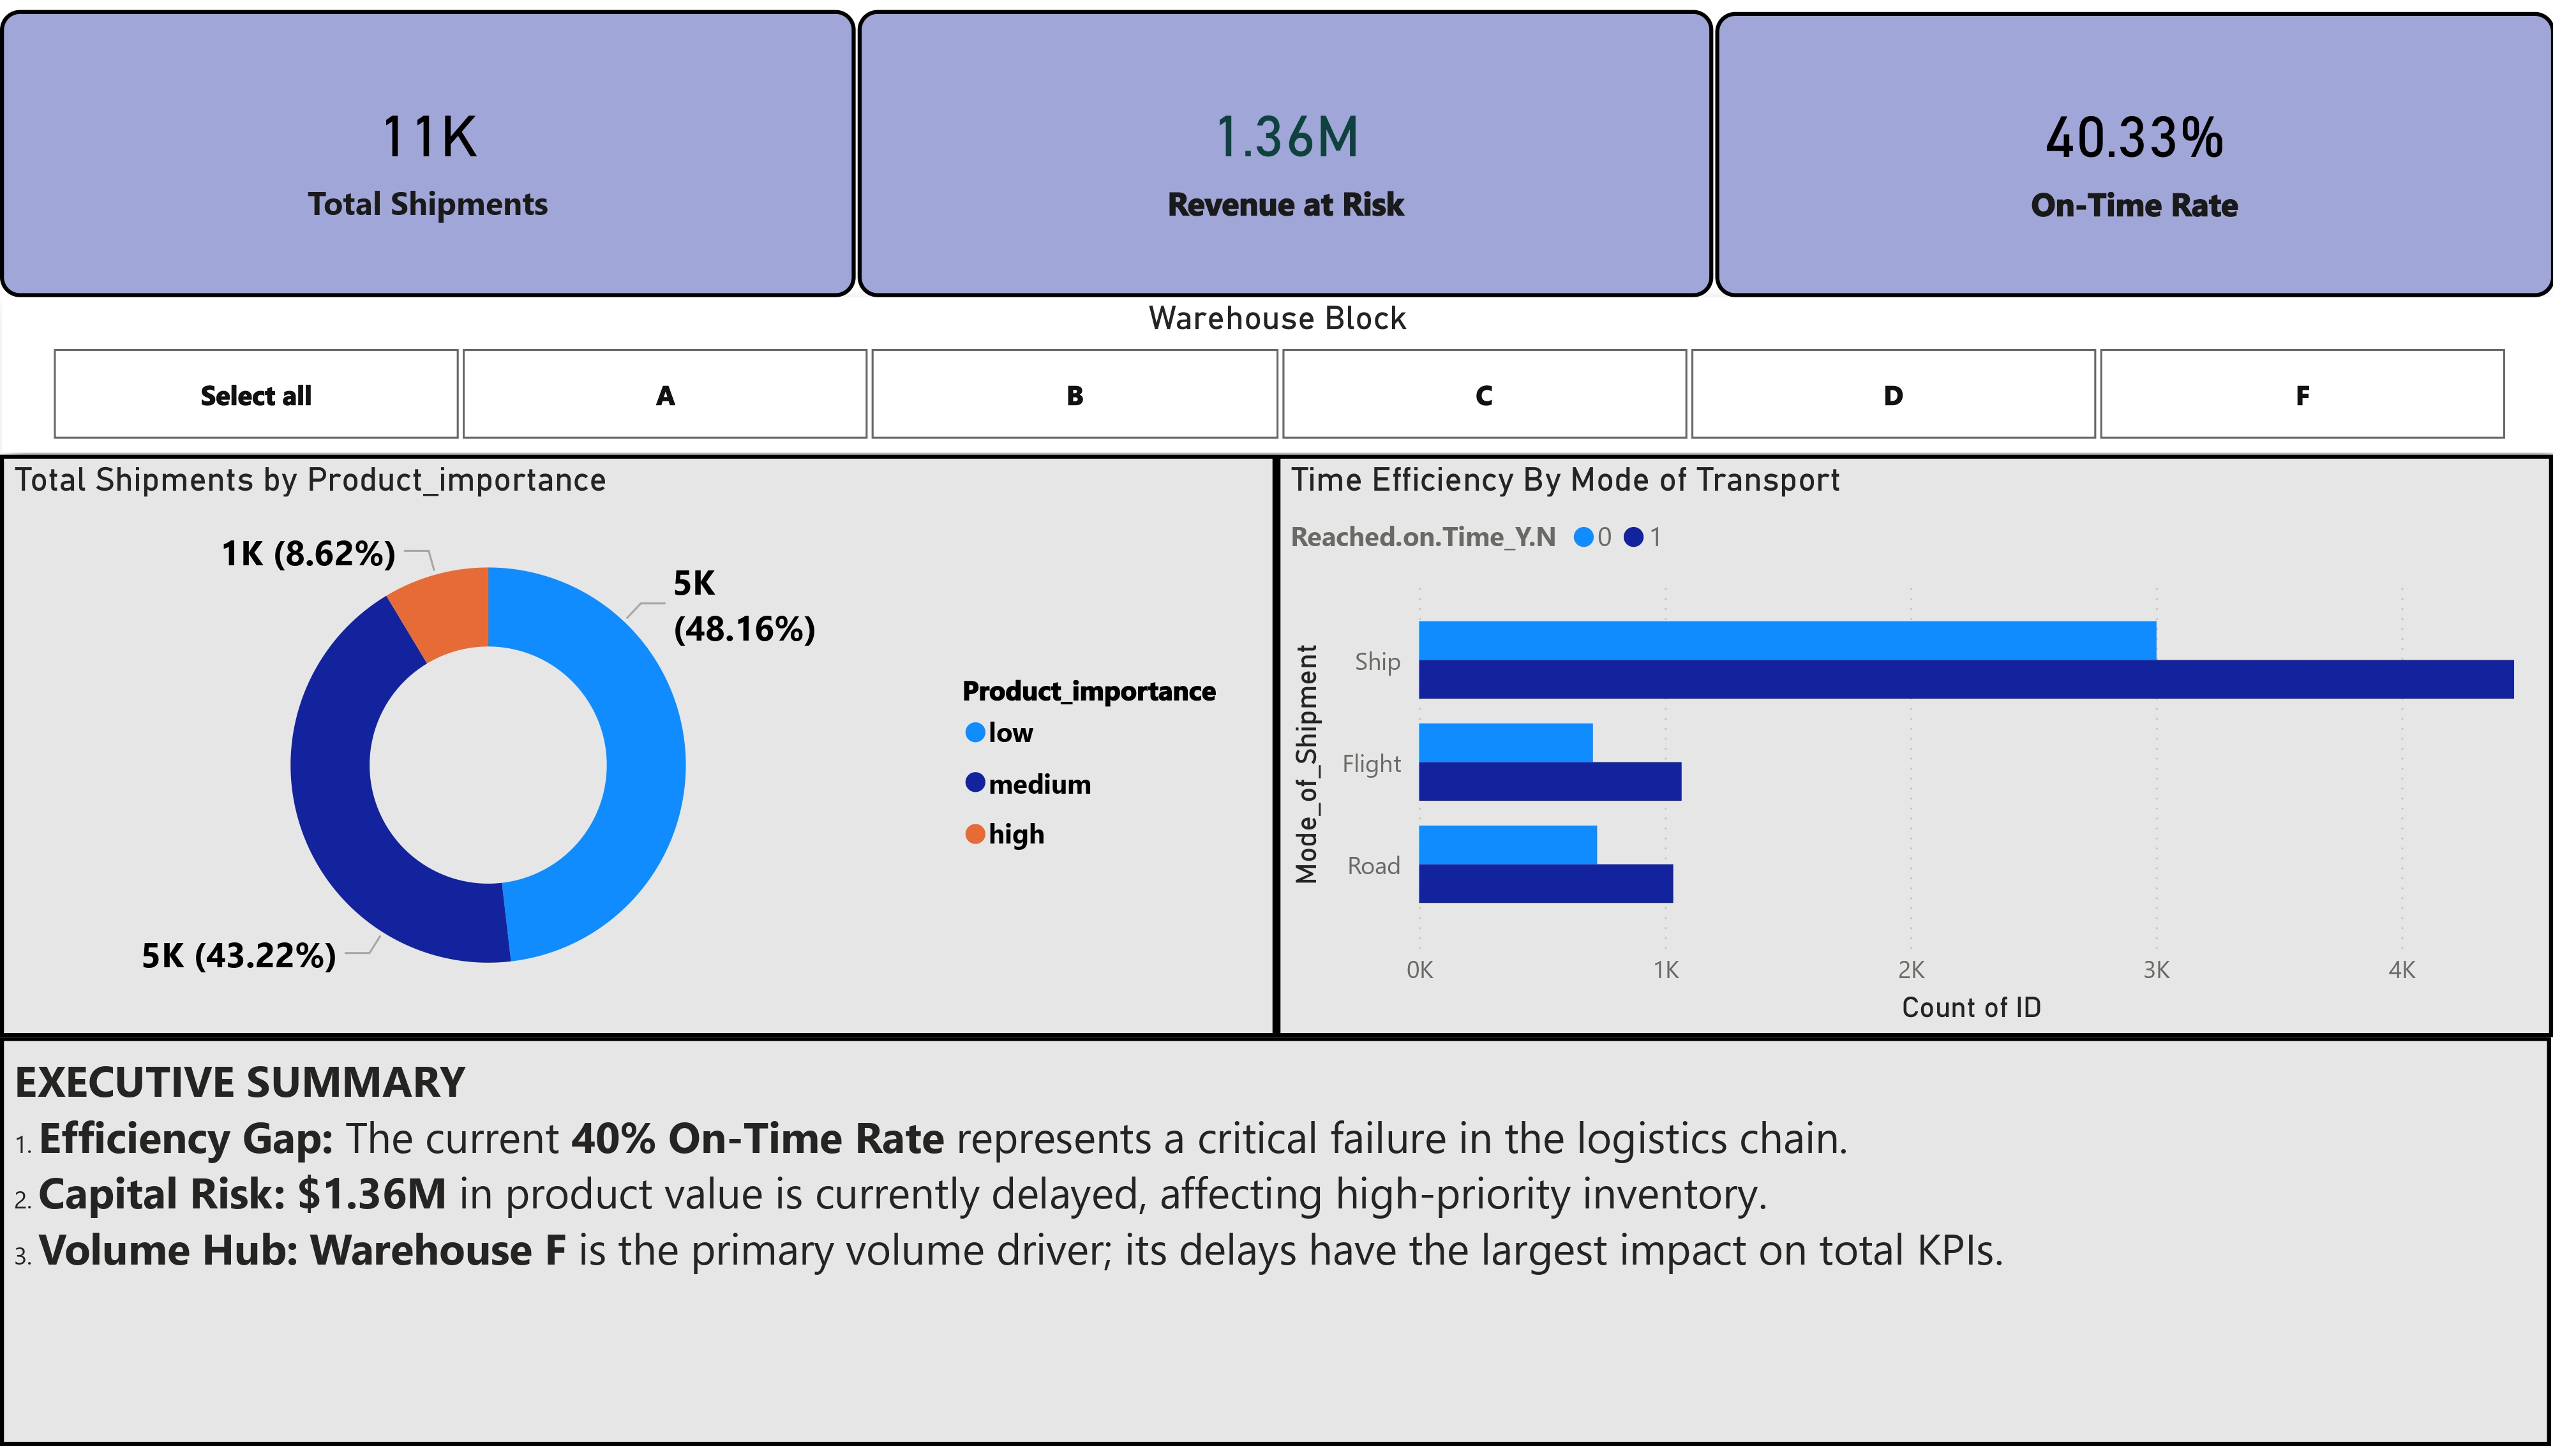

Layout of this report page (visuals, bound fields, positions):
{"tool":"powerbi","page":{"name":"Page 1","canvas":[1280,720],"ordinal":0},"visuals":[{"type":"slicer","title":"Warehouse Block","fields":{"Values":["Train.Warehouse_block"]},"box":[1.2,144.3,1279.1,78.3],"z":0},{"type":"card","fields":{"Values":["Train.Total Shipments"]},"box":[0,0,429.2,144.3],"z":1000},{"type":"card","fields":{"Values":["Train.On-Time Rate"]},"box":[859.7,1.2,420.7,143.1],"z":2000},{"type":"card","fields":{"Values":["Train.Revenue at Risk"]},"box":[430.4,0,429.2,144.3],"z":3000},{"type":"clusteredBarChart","title":"Time Efficiency By Mode of Transport","fields":{"Category":["Train.Mode_of_Shipment"],"Y":["CountNonNull(Train.ID)"],"Series":["Train.Reached.on.Time_Y.N"]},"box":[639.5,222.6,639.5,292.3],"z":4000},{"type":"donutChart","fields":{"Category":["Train.Product_importance"],"Y":["Train.Total Shipments"]},"box":[0,222.6,639.5,292.3],"z":5000},{"type":"textbox","box":[0,514.8,1279.1,205.4],"z":6000}]}

Visuals, with their boxes in screenshot pixels (x1, y1, x2, y2), scaled from the page's 1280x720 canvas onto the 2553x1456 screenshot:
"Warehouse Block" slicer: [3,292,2552,450]
card - Train.Total Shipments: [0,0,856,292]
card - Train.On-Time Rate: [1715,3,2552,292]
card - Train.Revenue at Risk: [858,0,1714,292]
"Time Efficiency By Mode of Transport" clusteredBarChart: [1275,450,2551,1041]
donutChart - Train.Product_importance x Train.Total Shipments: [0,450,1275,1041]
textbox: [0,1041,2551,1455]
